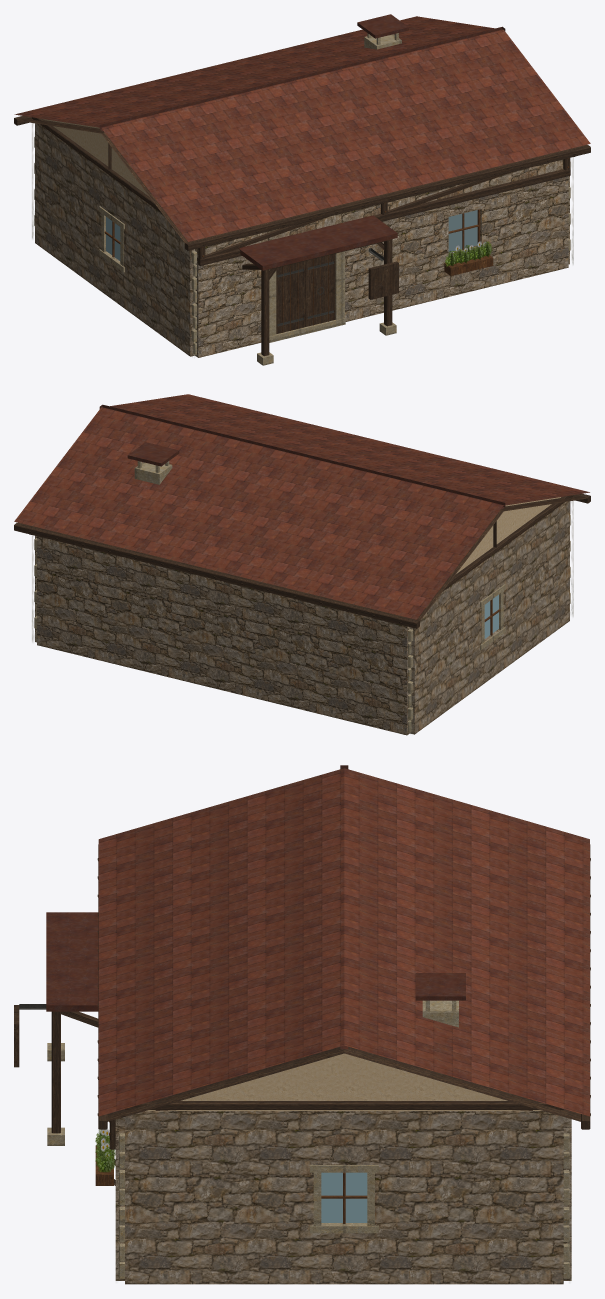
Rendered from B05_taller.gltf.
The picture shows the model from 3 angles, top to bottom: view 1: azimuth 30°, elevation 25°; view 2: azimuth 150°, elevation 25°; view 3: azimuth 270°, elevation 25°; orthographic projection. The views are drawn at different scales.
Parts seen in each view (by area): view 1: AUR034_B05_clay_tiles, AUR034_B05_lower_masonry, B05_runtime_static_000, B05_runtime_static_083, B05_runtime_static_061, AUR034_B05_entry_leaf1, AUR034_B05_entry_leaf0, B05_runtime_static_085, B05_runtime_static_111, AUR034_B05_window0_glazing, B05_herbs_0, B05_AUR034_B05_lower_masonry_corner_wear; view 2: AUR034_B05_clay_tiles, AUR034_B05_lower_masonry, B05_runtime_static_000, B05_runtime_static_083, B05_runtime_static_061, B05_runtime_static_111, B05_AUR034_B05_lower_masonry_corner_wear, AUR034_B05_side_window-1_0_glass; view 3: AUR034_B05_clay_tiles, AUR034_B05_lower_masonry, B05_runtime_static_000, B05_runtime_static_111, B05_runtime_static_083, B05_runtime_static_061, AUR034_B05_side_window1_0_glass, B05_runtime_static_085.
Boxes of the visible parts, bbox=[...] form: AUR034_B05_clay_tiles: bbox=[14, 16, 590, 241]; AUR034_B05_lower_masonry: bbox=[35, 123, 569, 357]; B05_runtime_static_000: bbox=[14, 116, 590, 356]; B05_runtime_static_083: bbox=[99, 14, 505, 270]; B05_runtime_static_061: bbox=[34, 33, 570, 365]; AUR034_B05_entry_leaf1: bbox=[305, 254, 335, 326]; AUR034_B05_entry_leaf0: bbox=[276, 261, 305, 333]; B05_runtime_static_085: bbox=[104, 158, 568, 332]; B05_runtime_static_111: bbox=[43, 119, 148, 195]; AUR034_B05_window0_glazing: bbox=[448, 210, 477, 251]; B05_herbs_0: bbox=[445, 241, 492, 266]; B05_AUR034_B05_lower_masonry_corner_wear: bbox=[32, 123, 573, 355]; AUR034_B05_clay_tiles: bbox=[14, 394, 589, 619]; AUR034_B05_lower_masonry: bbox=[35, 501, 569, 735]; B05_runtime_static_000: bbox=[14, 493, 590, 628]; B05_runtime_static_083: bbox=[99, 404, 505, 509]; B05_runtime_static_061: bbox=[34, 461, 570, 732]; B05_runtime_static_111: bbox=[456, 497, 560, 573]; B05_AUR034_B05_lower_masonry_corner_wear: bbox=[32, 501, 573, 732]; AUR034_B05_side_window-1_0_glass: bbox=[484, 594, 498, 638]; AUR034_B05_clay_tiles: bbox=[98, 768, 589, 1116]; AUR034_B05_lower_masonry: bbox=[115, 1111, 571, 1284]; B05_runtime_static_000: bbox=[14, 844, 590, 1185]; B05_runtime_static_111: bbox=[146, 1053, 542, 1110]; B05_runtime_static_083: bbox=[46, 765, 465, 1049]; B05_runtime_static_061: bbox=[47, 1000, 569, 1278]; AUR034_B05_side_window1_0_glass: bbox=[321, 1172, 367, 1222]; B05_runtime_static_085: bbox=[95, 1121, 367, 1223].
Size of the model in its own units: 11.96 by 5.05 by 10.52.
13 materials, 11 textured.
